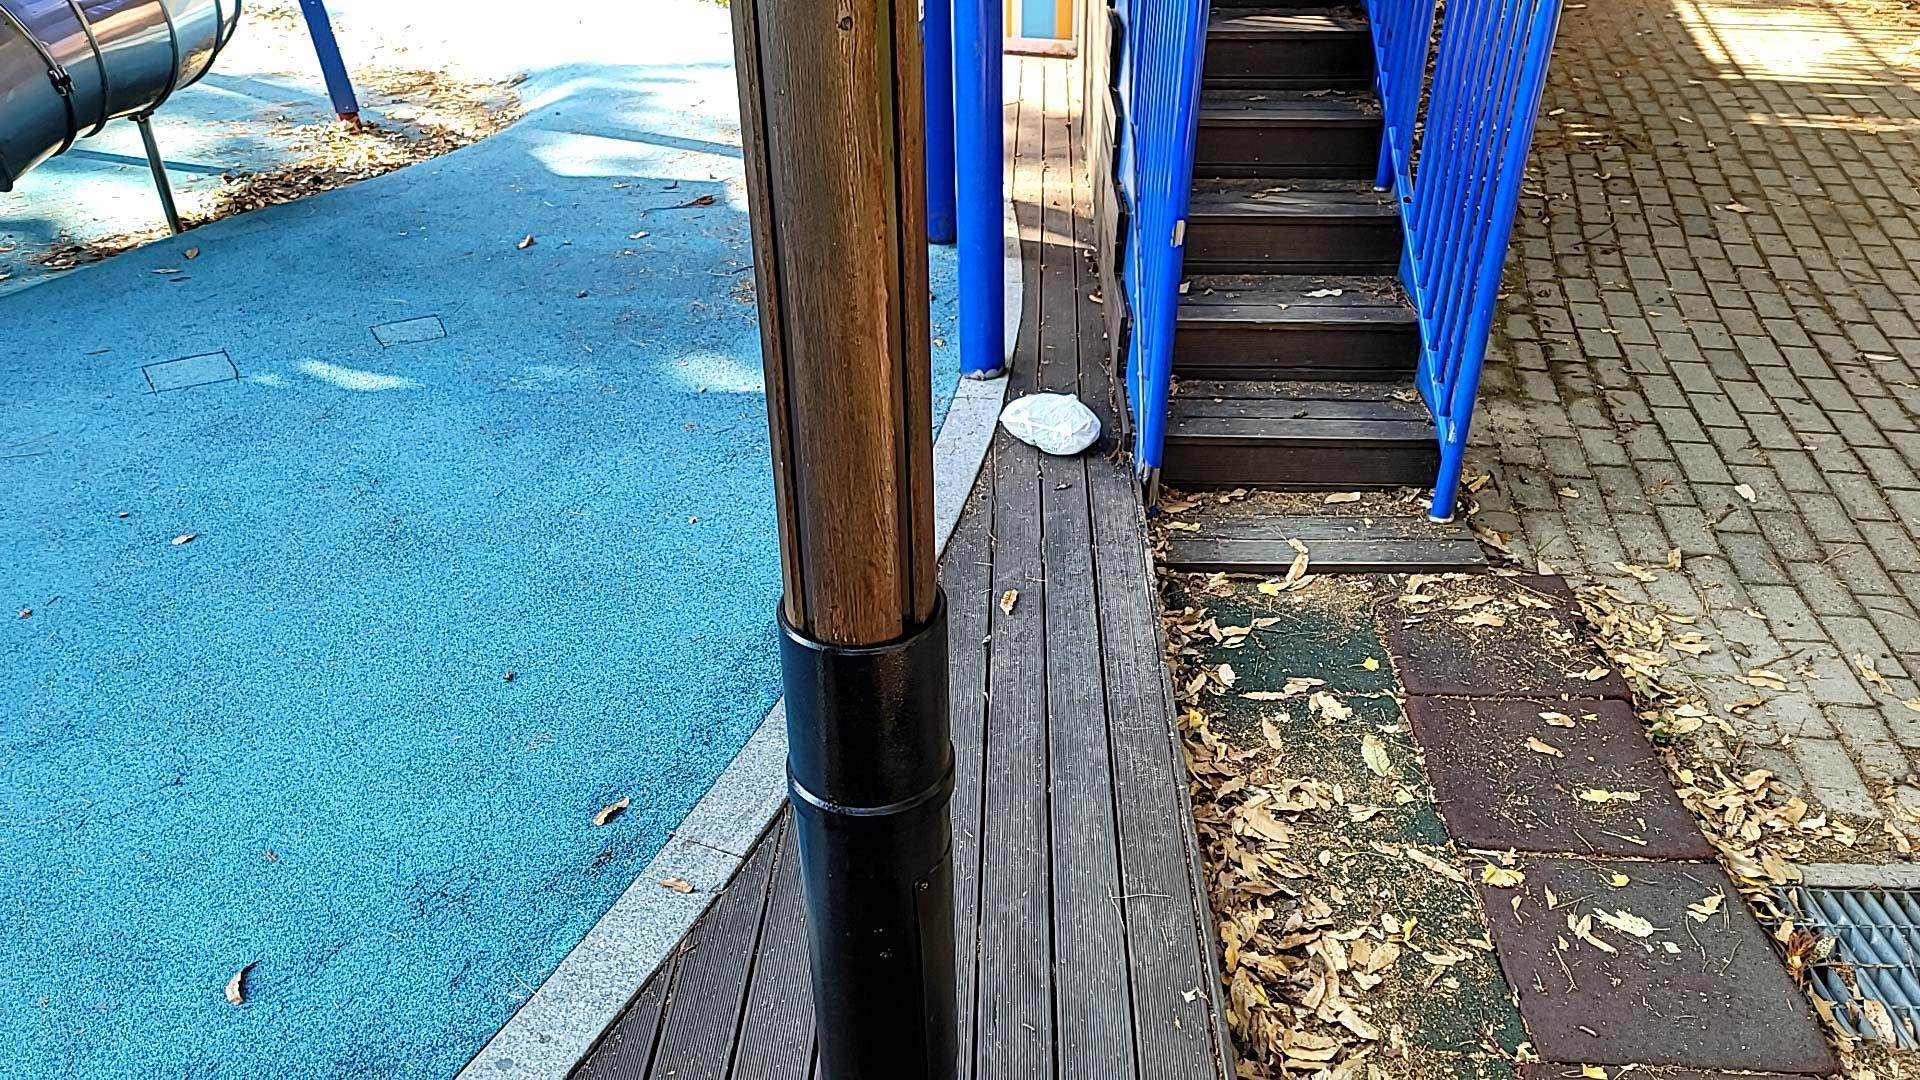white_bag: (993, 389, 1106, 462)
